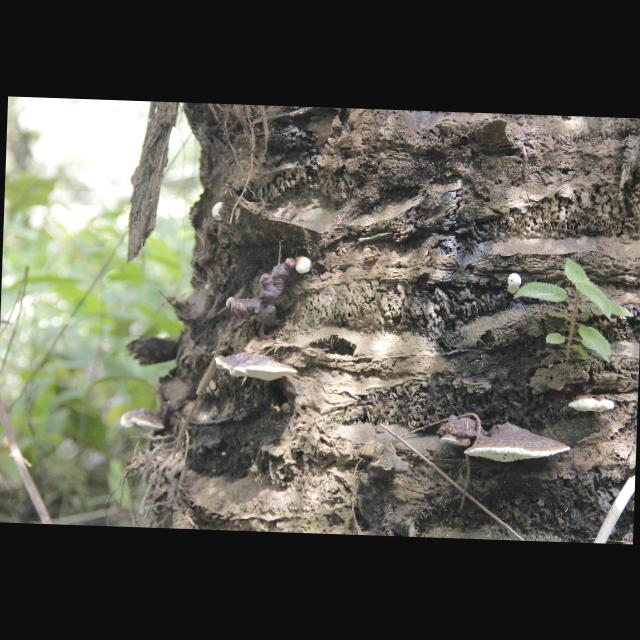ganoderma: (464, 423, 572, 466), (235, 256, 296, 331), (214, 351, 299, 384), (436, 416, 483, 448), (120, 408, 167, 434), (569, 395, 617, 415)
primordium: (506, 272, 523, 295), (295, 257, 313, 276), (212, 202, 224, 222), (227, 298, 235, 311)
